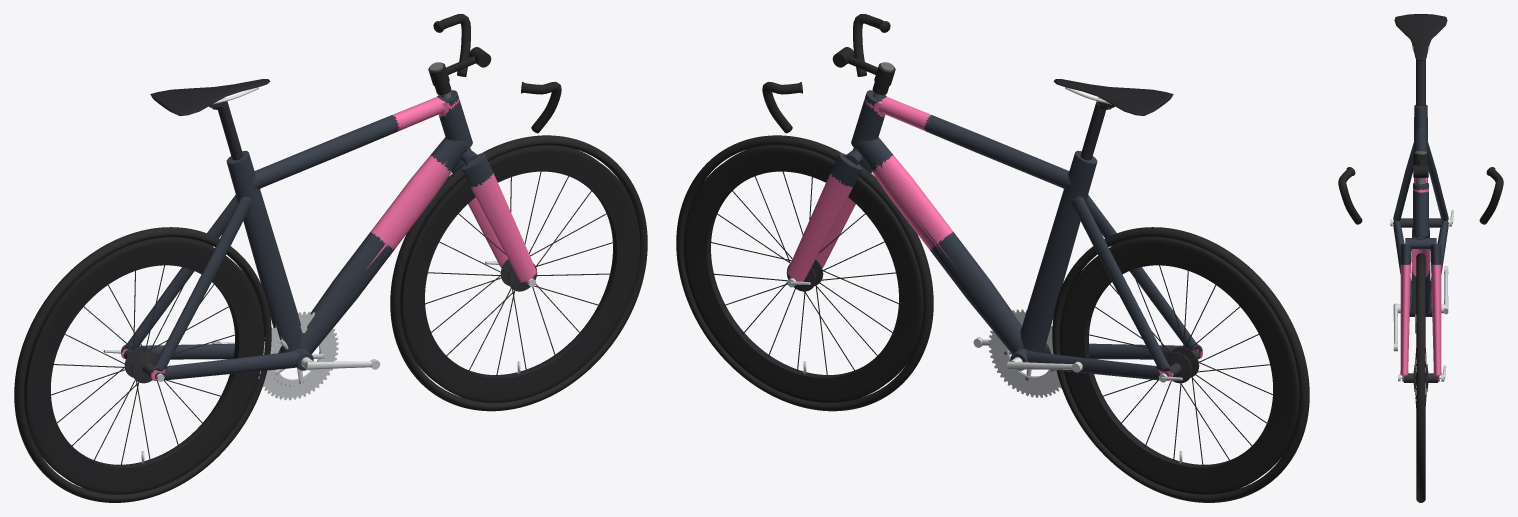
File: bike_web.glb
3 renders of one model, left to right at view 1: azimuth 30°, elevation 25°; view 2: azimuth 150°, elevation 25°; view 3: azimuth 270°, elevation 25°, orthographic. The views are drawn at different scales.
Visible parts, largest first — view 1: frame, rim_rear, rim_front, tyre_rear, tyre_front, fork, spokes_front, chainrings, spokes_rear, saddle, dropbar, stem (+3 smaller); view 2: frame, rim_rear, rim_front, tyre_rear, tyre_front, fork, spokes_front, spokes_rear, saddle, chainrings, dropbar, stem (+3 smaller); view 3: frame, fork, tyre_front, saddle, dropbar, crank_arms, stem, seatpost, hub_front, hub_rear.
Part boxes in pixels (x1=…): frame: x1=121, y1=90, x2=472, y2=380; rim_rear: x1=24, y1=237, x2=264, y2=494; rim_front: x1=400, y1=145, x2=640, y2=402; tyre_rear: x1=14, y1=227, x2=271, y2=502; tyre_front: x1=390, y1=135, x2=647, y2=411; fork: x1=452, y1=147, x2=536, y2=283; spokes_front: x1=425, y1=171, x2=614, y2=375; chainrings: x1=258, y1=311, x2=338, y2=400; spokes_rear: x1=51, y1=265, x2=236, y2=465; saddle: x1=150, y1=79, x2=270, y2=115; dropbar: x1=433, y1=14, x2=561, y2=133; stem: x1=428, y1=47, x2=491, y2=98; frame: x1=851, y1=90, x2=1202, y2=380; rim_rear: x1=1059, y1=237, x2=1299, y2=494; rim_front: x1=683, y1=145, x2=923, y2=402; tyre_rear: x1=1052, y1=227, x2=1309, y2=502; tyre_front: x1=676, y1=135, x2=933, y2=411; fork: x1=787, y1=147, x2=871, y2=281; spokes_front: x1=710, y1=171, x2=898, y2=375; spokes_rear: x1=1087, y1=265, x2=1272, y2=465; saddle: x1=1053, y1=79, x2=1173, y2=115; chainrings: x1=988, y1=309, x2=1061, y2=397; dropbar: x1=762, y1=14, x2=890, y2=133; stem: x1=832, y1=47, x2=895, y2=98; frame: x1=1393, y1=105, x2=1448, y2=316; fork: x1=1400, y1=238, x2=1441, y2=381; tyre_front: x1=1416, y1=253, x2=1425, y2=502; saddle: x1=1394, y1=14, x2=1447, y2=60; dropbar: x1=1338, y1=167, x2=1503, y2=224; crank_arms: x1=1393, y1=266, x2=1448, y2=351; stem: x1=1413, y1=151, x2=1428, y2=184; seatpost: x1=1416, y1=59, x2=1425, y2=106; hub_front: x1=1402, y1=364, x2=1439, y2=391; hub_rear: x1=1400, y1=218, x2=1441, y2=227.
Size of the model in its own units: 1.66 by 0.9827 by 0.4466.
